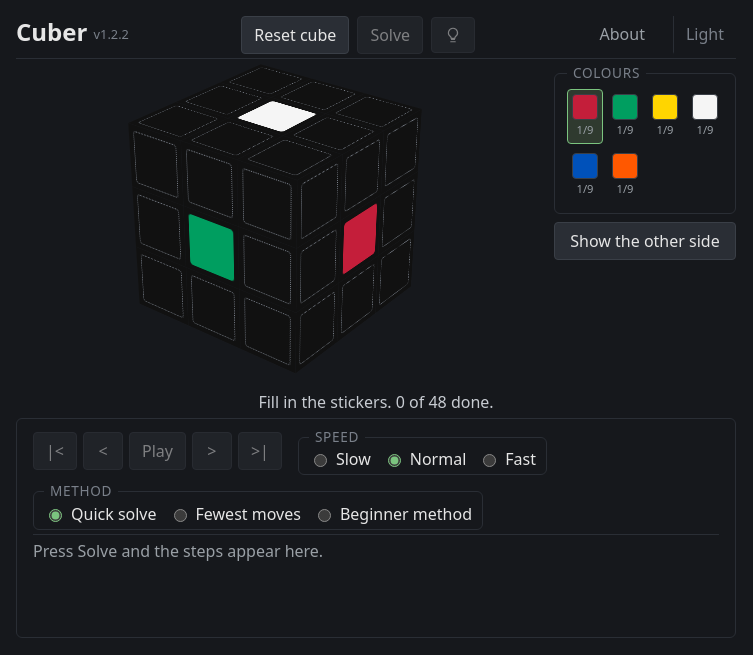
Scenario: validation on screen › says a piece cannot have two stickers the same colour
Click the button named "green": (625, 117) [607,89,643,144]
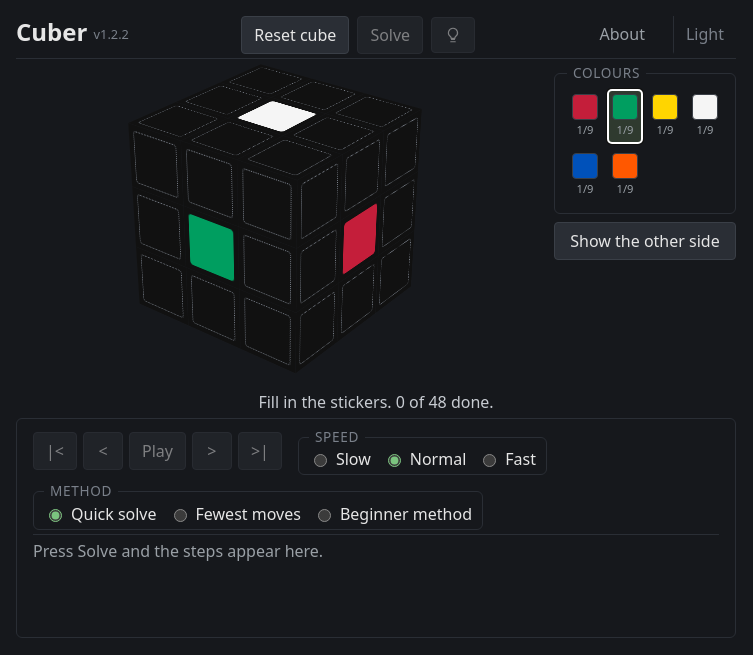
Click the button named "the top face, row 3, column 2, blank": (232, 138) [181,118,283,159]
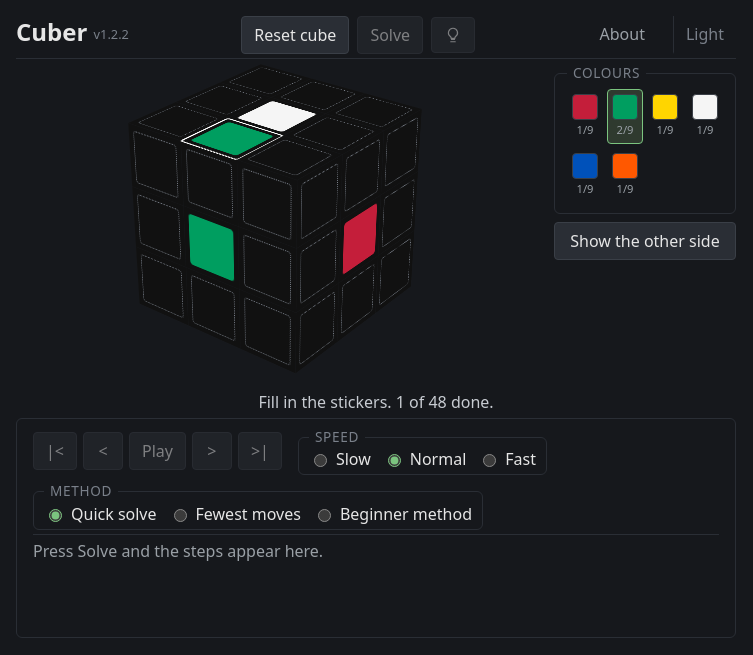
Click the button named "green": (625, 117) [607,89,643,144]
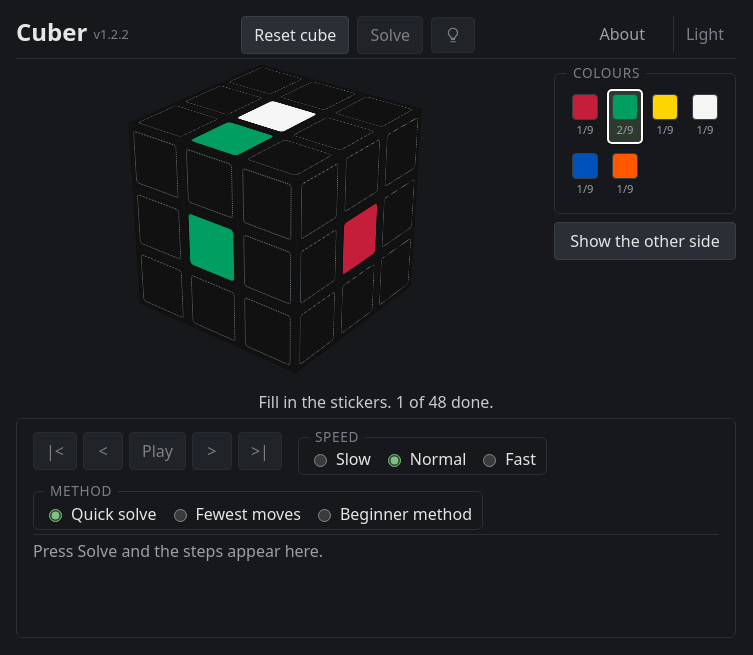
Click the button named "the front face, row 1, column 2, blank": (210, 183) [181,140,238,226]
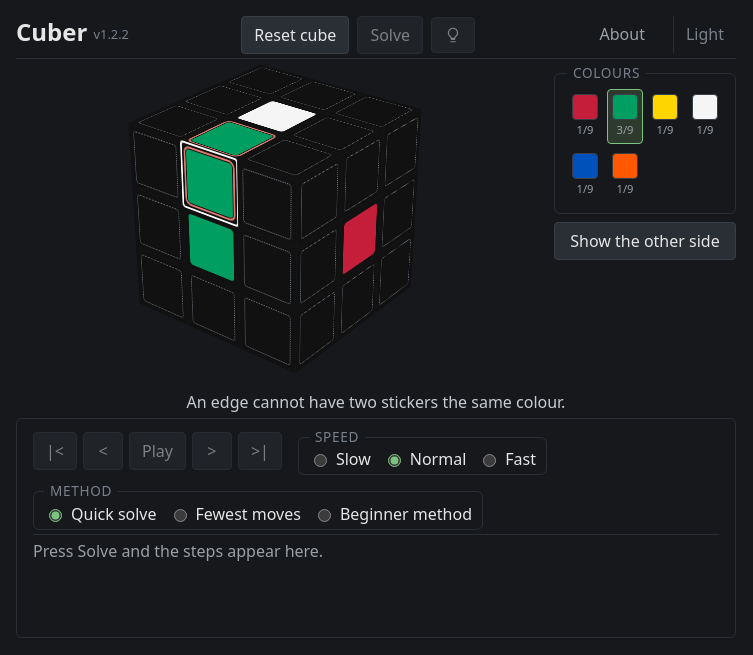
Now the message reads "An edge cannot have two stickers the same colour.", box [187,391,566,413]
